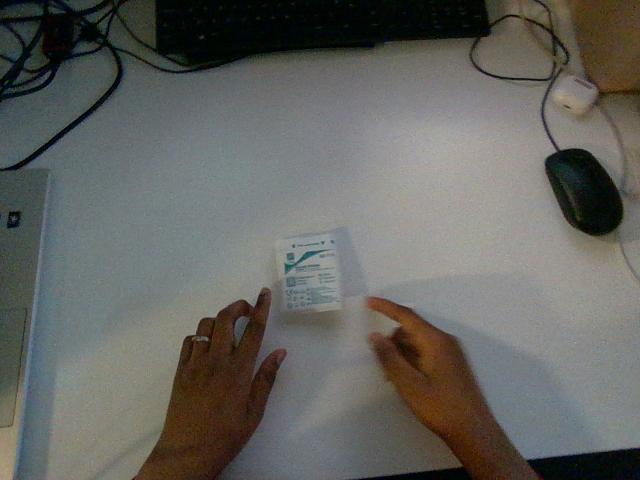gauze: (276, 233, 341, 312)
